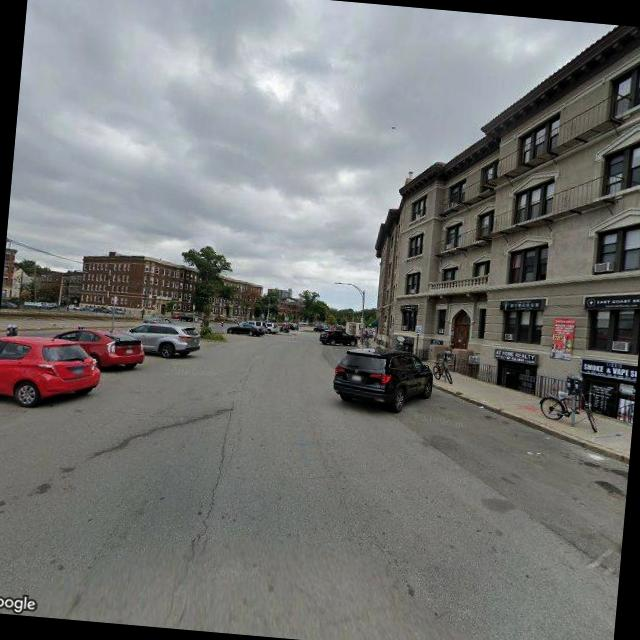pothole: (190, 408, 236, 546)
